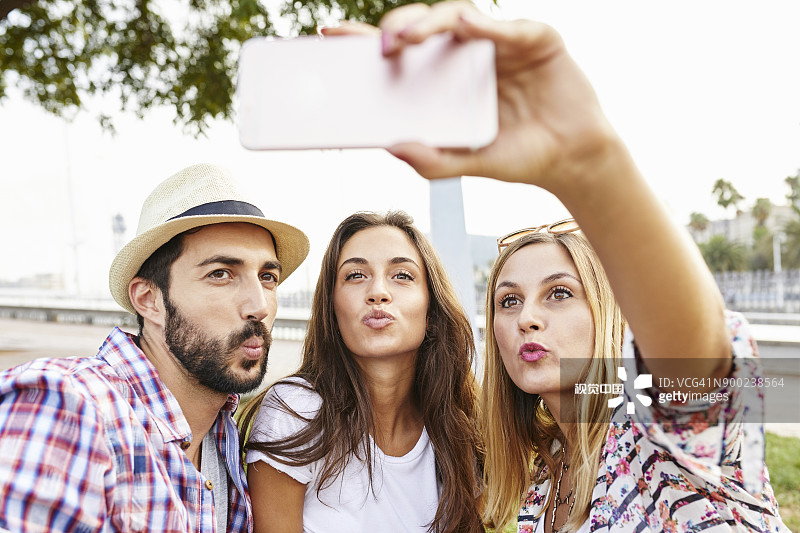taking photos: (235, 1, 672, 209)
